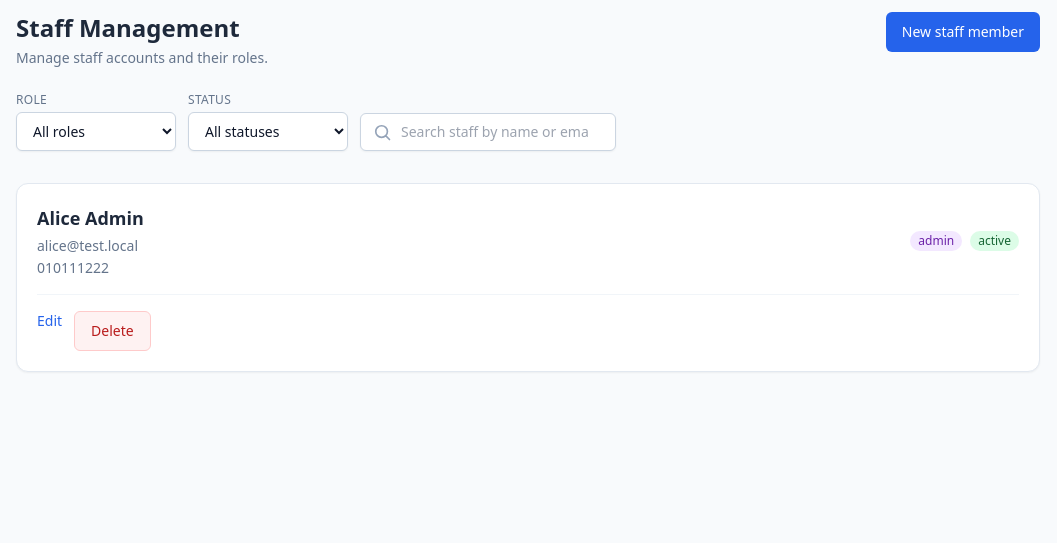
Test: Staff management list page › deletes a staff member after confirmation and refreshes the list
The image size is (1057, 543).
Expected: the heading "Alice Admin" is shown, [37,204,144,232]
Step 1. Click the button "Delete" → (112, 331), box [74,311,151,351]
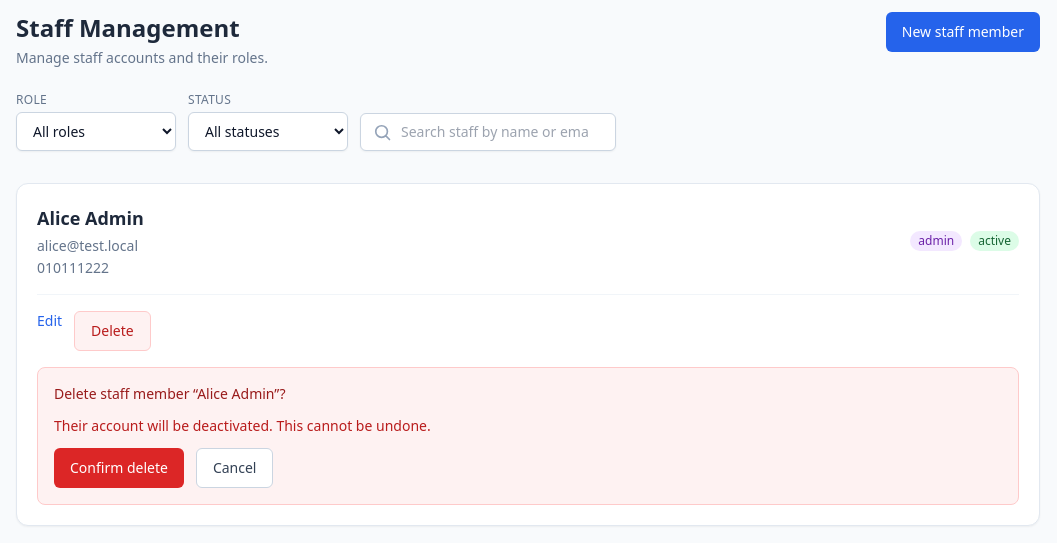
Result: the text "Delete staff member “Alice Admin”?" is shown at [54,384,286,403]
Step 2. Click the button "Confirm delete" → (119, 468), box [54,448,184,488]
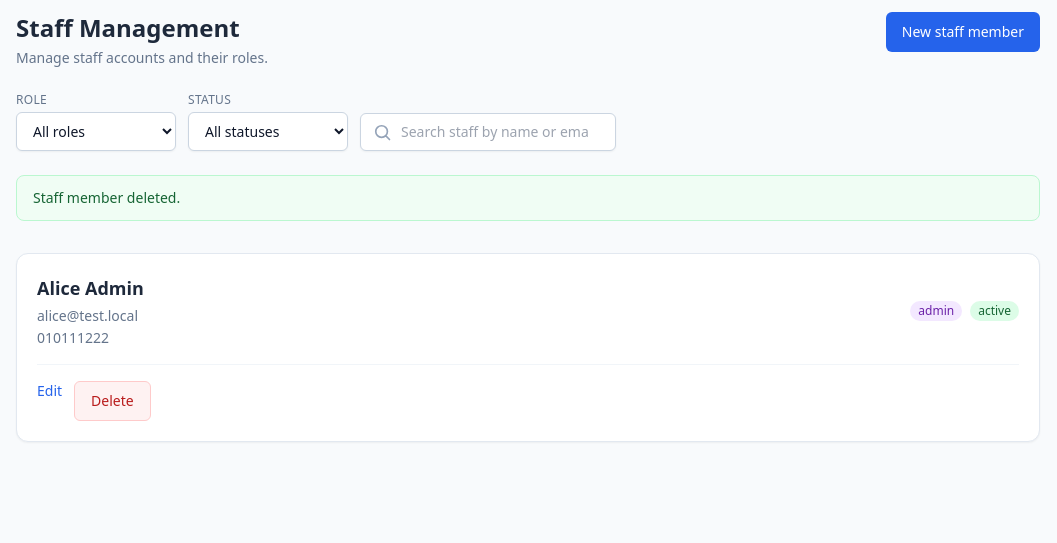
Result: the text "Staff member deleted." is shown at [16,175,1040,221]
